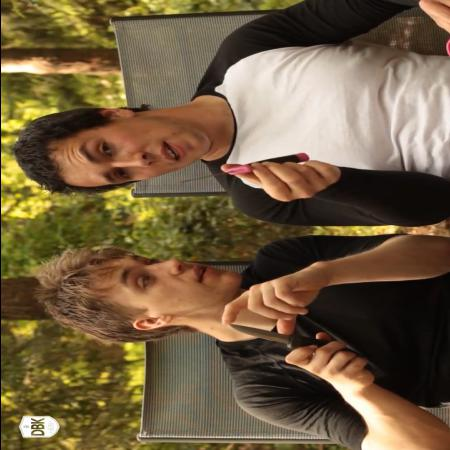long weapon: (215, 318, 367, 363), (167, 150, 323, 190)
